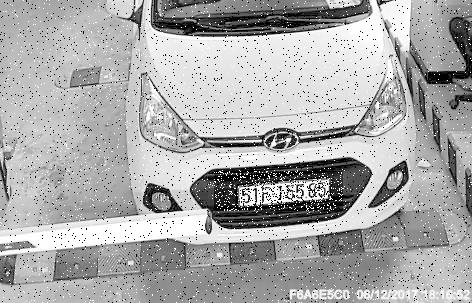License-plate: (215, 172, 344, 212)
